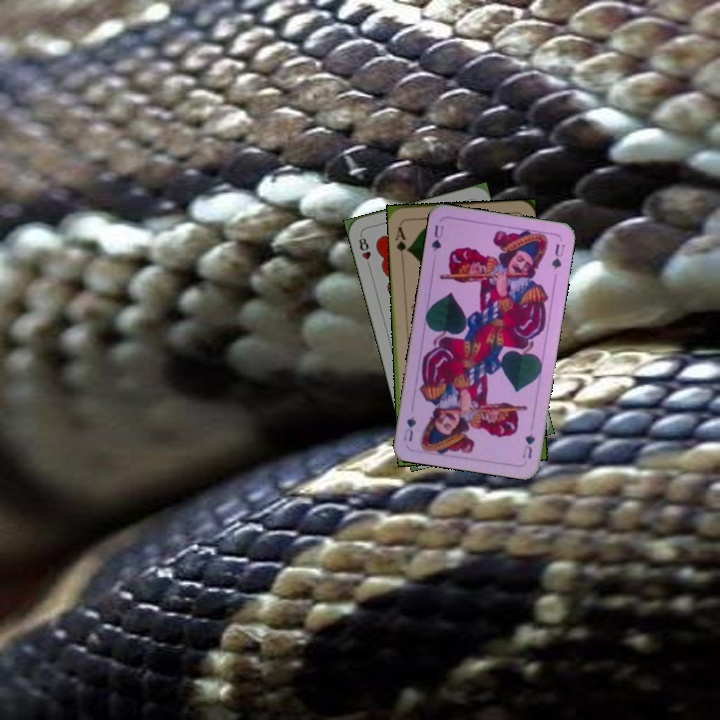GA: (391, 220, 412, 261)
GU: (518, 429, 538, 461), (427, 221, 446, 254)
H8: (355, 231, 374, 271)
